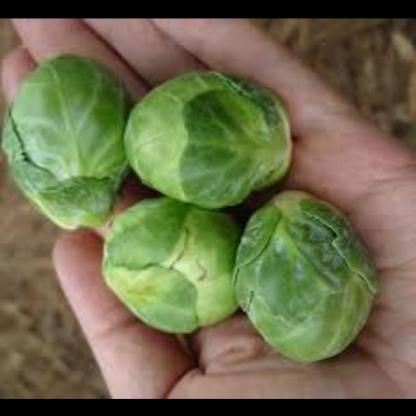brus capusta: (228, 157, 378, 374), (112, 68, 297, 207), (1, 80, 139, 247), (88, 204, 223, 339)
